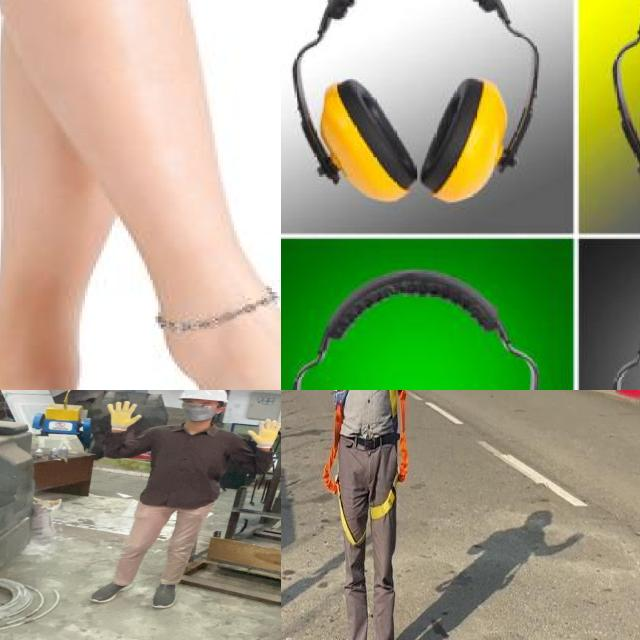Ear-protection: (293, 0, 549, 190), (285, 273, 564, 390)
Harness: (323, 390, 366, 546), (371, 390, 408, 521)
face_mask: (182, 399, 216, 423)
glasses: (178, 401, 223, 409)
hand_glove: (103, 399, 146, 428), (242, 416, 281, 446)
head_helmet: (178, 390, 230, 403)
person: (84, 390, 281, 609)
shoes: (85, 578, 136, 604), (146, 579, 182, 610)
